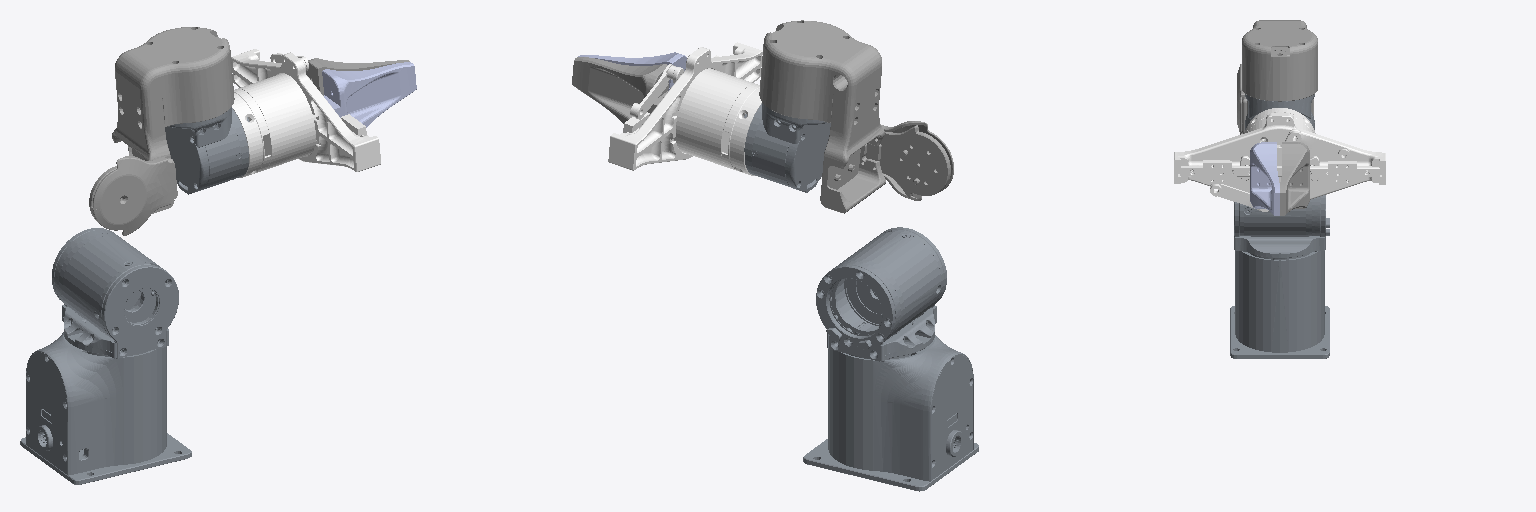
robot.urdf — piper_x_description:
<?xml version="1.0" encoding="utf-8"?>
<!-- This URDF was automatically created by SolidWorks to URDF Exporter! Originally created by [author] ([email redacted]) 
     Commit Version: 1.6.0-4-g7f85cfe  Build Version: 1.6.7995.38578
     For more information, please see http://wiki.ros.org/sw_urdf_exporter -->
<robot
  name="piper_x_description">
  <link
    name="base_link">
  <inertial>
    <origin xyz="-0.00341 -0.00007 0.04401" rpy="0 0 0"/>
    <mass value="1.07"/>
    <inertia
      ixx="0.00307136"
      ixy="0.00000218"
      ixz="0.00016662"
      iyy="0.00321263"
      iyz="0.00000508"
      izz="0.00097796"/>
  </inertial>
    <visual>
      <origin
        xyz="0 0 0"
        rpy="0 0 0" />
      <geometry>
        <mesh
          filename="package://meshes/dae/base_link.dae" />
      </geometry>
      <material
        name="">
        <color
          rgba="0.59216 0.61961 0.65098 1" />
      </material>
    </visual>
    <collision>
      <origin
        xyz="0 0 0"
        rpy="0 0 0" />
      <geometry>
        <mesh
          filename="package://meshes/dae/base_link.dae" />
      </geometry>
    </collision>
  </link>
  <link
    name="link1">
    <inertial>
      <origin xyz="0.00065 0.00006 -0.00325" rpy="0 0 0"/>
      <mass
        value="0.71" />
      <inertia
        ixx="0.00051254"
        ixy="0.00000294"
        ixz="0.00001039"
        iyy="0.00041089"
        iyz="0.00000240"
        izz="0.00045962"/>
    </inertial>
    <visual>
      <origin
        xyz="0 0 0"
        rpy="0 0 0" />
      <geometry>
        <mesh
          filename="package://meshes/dae/J1.dae" />
      </geometry>
      <material
        name="">
        <color
          rgba="0.59216 0.61961 0.65098 1" />
      </material>
    </visual>
    <collision>
      <origin
        xyz="0 0 0"
        rpy="0 0 0" />
      <geometry>
        <mesh
          filename="package://meshes/dae/J1.dae" />
      </geometry>
    </collision>
  </link>
  <joint
    name="joint1"
    type="revolute">
    <origin
      xyz="0 0 0.123"
      rpy="0 0 0" />
    <parent
      link="base_link" />
    <child
      link="link1" />
    <axis
      xyz="0 0 1" />
    <limit
      lower="-2.618"
      upper="2.618"
      effort="100"
      velocity="10" />
  </joint>
  <link
    name="link2">
    <inertial>
      <origin xyz="0.21854 -0.00853 0.00234" rpy="0 0 0"/>
      <mass value="1.16"/>
      <inertia
        ixx="0.00109788"
        ixy="0.00180610"
        ixz="0.00055040"
        iyy="0.06763354"
        iyz="0.00000813"
        izz="0.06762540"/>
    </inertial>
    <visual>
      <origin
        xyz="0 0 0"
        rpy="0 0 0" />
      <geometry>
        <mesh
          filename="package://meshes/dae/J2.dae" />
      </geometry>
    </visual>
    <collision>
      <origin
        xyz="0 0 0"
        rpy="0 0 0" />
      <geometry>
        <mesh
          filename="package://meshes/dae/J2.dae" />
      </geometry>
    </collision>
  </link>
  <joint
    name="joint2"
    type="revolute">
    <origin
      xyz="0 0 0"
      rpy="1.5708 -0.13586 3.1416" />
    <parent
      link="link1" />
    <child
      link="link2" />
    <axis
      xyz="0 0 1" />
    <limit
      lower="0"
      upper="3.14"
      effort="100"
      velocity="10" />
  </joint>
  <link
    name="link3">
    <inertial>
      <origin xyz="0.20190 -0.00415 -0.00114" rpy="0 0 0"/>
      <mass value="0.67"/>
      <inertia
        ixx="0.00033471"
        ixy="0.00026891"
        ixz="0.00013918"
        iyy="0.03360411"
        iyz="0.00000052"
        izz="0.03356941"/>
    </inertial>
    <visual>
      <origin
        xyz="0 0 0"
        rpy="0 0 0" />
      <geometry>
        <mesh
          filename="package://meshes/dae/J3.dae" />
      </geometry>
      <material
        name="">
        <color
          rgba="0.59216 0.61961 0.65098 1" />
      </material>
    </visual>
    <collision>
      <origin
        xyz="0 0 0"
        rpy="0 0 0" />
      <geometry>
        <mesh
          filename="package://meshes/dae/J3.dae" />
      </geometry>
    </collision>
  </link>
  <joint
    name="joint3"
    type="revolute">
    <origin
      xyz="0.28503 0 0"
      rpy="0 0 2.8377" />
    <parent
      link="link2" />
    <child
      link="link3" />
    <axis
      xyz="0 0 1" />
    <limit
      lower="-2.9671"
      upper="0"
      effort="100"
      velocity="10" />
  </joint>
  <link
    name="link4">
    <inertial>
      <origin xyz="0.06593 -0.04751 -0.00274" rpy="0 0 0"/>
      <mass value="0.4"/>
      <inertia
        ixx="0.00120173"
        ixy="0.00138165"
        ixz="0.00001187"
        iyy="0.00209324"
        iyz="0.00000217"
        izz="0.00307814"/>
    </inertial>
    <visual>
      <origin
        xyz="0 0 0"
        rpy="0 0 0" />
      <geometry>
        <mesh
          filename="package://meshes/dae/J4.dae" />
      </geometry>
      <material
        name="">
        <color
          rgba="0.69804 0.69804 0.69804 0.875" />
      </material>
    </visual>
    <collision>
      <origin
        xyz="0 0 0"
        rpy="0 0 0" />
      <geometry>
        <mesh
          filename="package://meshes/dae/J4.dae" />
      </geometry>
    </collision>
  </link>
  <joint
    name="joint4"
    type="revolute">
    <origin
      xyz="0.27264 0 0"
      rpy="0 0 0.075129" />
    <parent
      link="link3" />
    <child
      link="link4" />
    <axis
      xyz="0 0 1" />
    <limit
      lower="-1.57"
      upper="1.57"
      effort="100"
      velocity="10" />
  </joint>
  <link
    name="link5">
    <inertial>
      <origin xyz="0.00005 0.0 -0.00417" rpy="0 0 0"/>
      <mass value="0.35"/>
      <inertia
        ixx="0.00022660"
        ixy="0.00000019"
        ixz="0.00000005"
        iyy="0.00017740"
        iyz="0.00000085"
        izz="0.00019425"/>
    </inertial>
    <visual>
      <origin
        xyz="0 0 0"
        rpy="0 0 0" />
      <geometry>
        <mesh
          filename="package://meshes/dae/J5.dae" />
      </geometry>
      <material
        name="">
        <color
          rgba="0.59216 0.61961 0.65098 1" />
      </material>
    </visual>
    <collision>
      <origin
        xyz="0 0 0"
        rpy="0 0 0" />
      <geometry>
        <mesh
          filename="package://meshes/dae/J5.dae" />
      </geometry>
    </collision>
  </link>
  <joint
    name="joint5"
    type="revolute">
    <origin
      xyz="0.076857 0.00062395 0"
      rpy="-1.5708 0 0" />
    <parent
      link="link4" />
    <child
      link="link5" />
    <axis
      xyz="0 0 1" />
    <limit
      lower="-1.57"
      upper="1.57"
      effort="100"
      velocity="10" />
  </joint>
  <link
    name="link6">
    <inertial>
      <origin xyz="0 0 -0.00351" rpy="0 0 0"/>
      <mass value="0.01"/>
      <inertia
        ixx="0.00000064"
        ixy="0"
        ixz="0"
        iyy="0.00000064"
        iyz="0"
        izz="0.00000106"/>
    </inertial>
    <visual>
      <origin
        xyz="0 0 -0.035"
        rpy="0 0 0" />
      <geometry>
        <mesh
          filename="package://meshes/Link6.STL" />
      </geometry>
      <material
        name="">
        <color
          rgba="0.898039215686275 0.917647058823529 0.929411764705882 1" />
      </material>
    </visual>
    <collision>
      <origin
        xyz="0 0 -0.035"
        rpy="0 0 0" />
      <geometry>
        <mesh
          filename="package://meshes/Link6.STL" />
      </geometry>
    </collision>
  </link>
  <joint
    name="joint6"
    type="revolute">
    <origin
      xyz="0.035 0 0"
      rpy="1.5708 0 1.5708" />
    <parent
      link="link5" />
    <child
      link="link6" />
    <axis
      xyz="0 0 1" />
    <limit
      lower="-3.14"
      upper="3.14"
      effort="100"
      velocity="10" />
  </joint>

  <link
    name="gripper_base">
    <inertial>
      <origin xyz="-0.00006 -0.00003 0.04448" rpy="0 0 0"/>
      <mass value="0.52"/>
      <inertia
        ixx="0.00151445"
        ixy="0.00000048"
        ixz="0.00000003"
        iyy="0.00162326"
        iyz="0.00000277"
        izz="0.00030728"/>
    </inertial>
    <visual>
      <origin
        xyz="0.002 0.0078 0.06"
        rpy="-1.57 0 3.14" />
      <geometry>
        <mesh
          filename="package://meshes/dae/gripper_base_100_v2.dae" scale="0.8 0.8 0.8"/>
      </geometry>
      <material
        name="">
        <color
          rgba="1 1 1 1" />
      </material>
    </visual>
    <collision>
      <origin
        xyz="0.002 0.0078 0.06"
        rpy="-1.57 0 3.14" />
      <geometry>
        <mesh
          filename="package://meshes/dae/gripper_base_100_v2.dae" scale="0.8 0.8 0.8"/>
      </geometry>
    </collision>
  </link>

  <joint
    name="joint6_to_gripper_base"
    type="fixed">
    <origin
      xyz="0 0 0"
      rpy="0 0 0" />
    <parent
      link="link6" />
    <child
      link="gripper_base" />
  </joint>

  <link name="link7">
    <inertial>
    <origin
        xyz="0.000277816920932317 -0.0467673824063769 -0.00921030054508036"
        rpy="0 0 0" />
    <mass value="0.0264822021416248" />
    <inertia
        ixx="9.99779119357223E-06"
        ixy="-1.57542283433504E-07"
        ixz="2.71367446701359E-08"
        iyy="6.17952441557932E-06"
        iyz="1.58939319453383E-06"
        izz="1.4210192754512E-05" />
    </inertial>
    <visual>
      <geometry>
        <mesh filename="package://meshes/dae/J7.dae" />
      </geometry>
      <material name="LightGrey">
        <color rgba="0.7 0.7 0.7 1.0"/>
      </material>
    </visual>
    <collision>
      <geometry>
        <mesh filename="package://meshes/dae/J7.dae" />
      </geometry>
    </collision>
  </link>

    <joint name="joint7" type="prismatic">
        <origin xyz="0 0 0.13503" rpy="1.5708 0 1.5708" />
        <parent link="gripper_base" />
        <child link="link7" />
        <axis xyz="0 0 -1" />
        <limit lower="0" upper="0.05" effort="100" velocity="1" />
    </joint>

    <link name="link8">
        <inertial>
        <origin
            xyz="0.000277816920932317 0.0467673824063769 -0.00921030054508036"
            rpy="0 0 0" />
        <mass value="0.0264822021416248" />
        <inertia
            ixx="9.99779119357223E-06"
            ixy="-1.57542283433504E-07"
            ixz="2.71367446701359E-08"
            iyy="6.17952441557932E-06"
            iyz="1.58939319453383E-06"
            izz="1.4210192754512E-05" />
        </inertial>
        <visual>
        <origin xyz="0 0 0" rpy="0 0 0" />
        <geometry>
          <mesh filename="package://meshes/dae/J8.dae" />
        </geometry>
        <material name="">
            <color rgba="0.792156862745098 0.819607843137255 0.933333333333333 1" />
        </material>
        </visual>
        <collision>
        <origin xyz="0 0 0" rpy="0 0 0" />
        <geometry>
          <mesh filename="package://meshes/dae/J8.dae" />
        </geometry>
        </collision>
    </link>
    <joint name="joint8" type="prismatic">
        <origin xyz="0 0 0.13503" rpy="-1.5708 0 1.5708" />
        <parent link="gripper_base" />
        <child link="link8" />
        <axis xyz="0 0 1" />
        <limit lower="-0.05" upper="0" effort="100" velocity="1" />
    </joint>

</robot>

--- Facts derived from the render (not from the file) ---
Views: 3 orthographic renders of the robot side by side, from view 1: azimuth 30°, elevation 25°; view 2: azimuth 150°, elevation 25°; view 3: azimuth 270°, elevation 25°.
Robot: piper_x_description — 10 links, 9 joints (6 revolute, 2 prismatic, 1 fixed); root link base_link; default pose: every joint at zero.
Links seen in each view (by area): view 1: base_link, link4, link1, gripper_base, link5, link8, link7; view 2: link4, base_link, link1, gripper_base, link5, link7, link8; view 3: base_link, gripper_base, link4, link1, link7, link8, link5.
Boxes of the visible links, x1,y1,x2,y2 form: base_link: (20, 332, 191, 484); link4: (89, 27, 234, 235); link1: (52, 228, 178, 358); gripper_base: (231, 49, 380, 177); link5: (165, 107, 249, 194); link8: (322, 62, 416, 127); link7: (306, 58, 409, 95); link4: (759, 20, 953, 213); base_link: (803, 335, 978, 491); link1: (816, 227, 946, 361); gripper_base: (608, 42, 762, 175); link5: (740, 103, 830, 192); link7: (572, 57, 668, 123); link8: (578, 52, 686, 90); base_link: (1230, 251, 1329, 358); gripper_base: (1174, 108, 1385, 211); link4: (1237, 20, 1317, 134); link1: (1234, 195, 1329, 259); link7: (1280, 142, 1309, 215); link8: (1250, 142, 1279, 215); link5: (1245, 94, 1314, 129).
Bounding box of the posed robot: 0.3349 × 0.1714 × 0.3047 m (x, y, z).
7 mesh visuals loaded from 10 distinct referenced files (7 Collada DAE); not drawn: 3 (reference not matched to a file when rendering).
